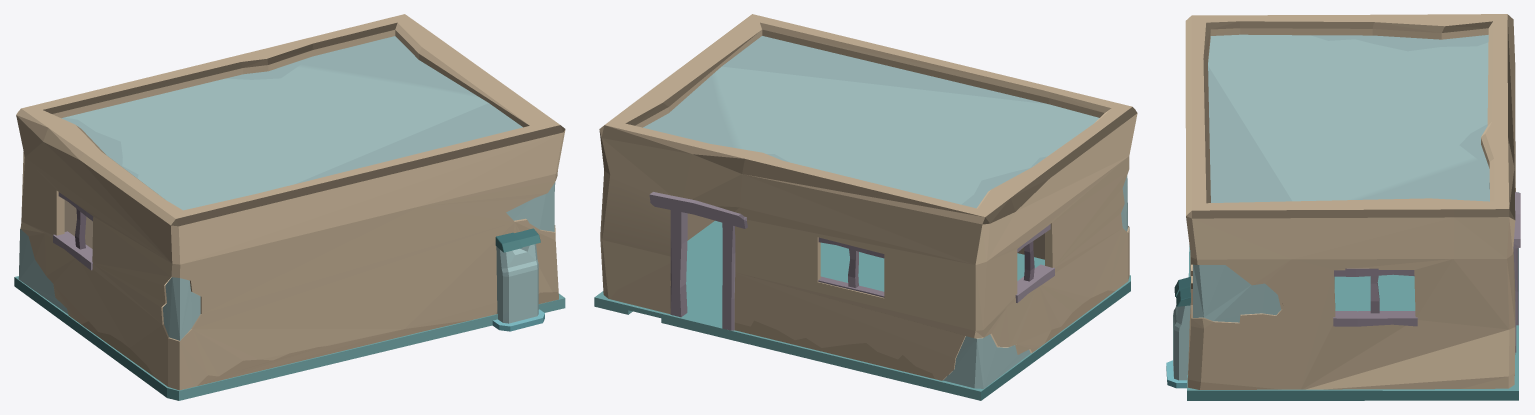
File: House_Small.fbx
The picture shows the model from 3 angles, left to right: view 1: azimuth 30°, elevation 25°; view 2: azimuth 150°, elevation 25°; view 3: azimuth 270°, elevation 25°; orthographic projection. The views are drawn at different scales.
Parts seen in each view (by area): view 1: Hous_Small; view 2: Hous_Small; view 3: Hous_Small.
Boxes of the visible parts, x1=… form: Hous_Small: x1=14, y1=14, x2=565, y2=400; Hous_Small: x1=594, y1=14, x2=1137, y2=400; Hous_Small: x1=1166, y1=14, x2=1520, y2=400.
Bounding box in the file's own units: 0.0787 × 0.0345 × 0.0585.
Materials: 1 (1 with a texture image).
